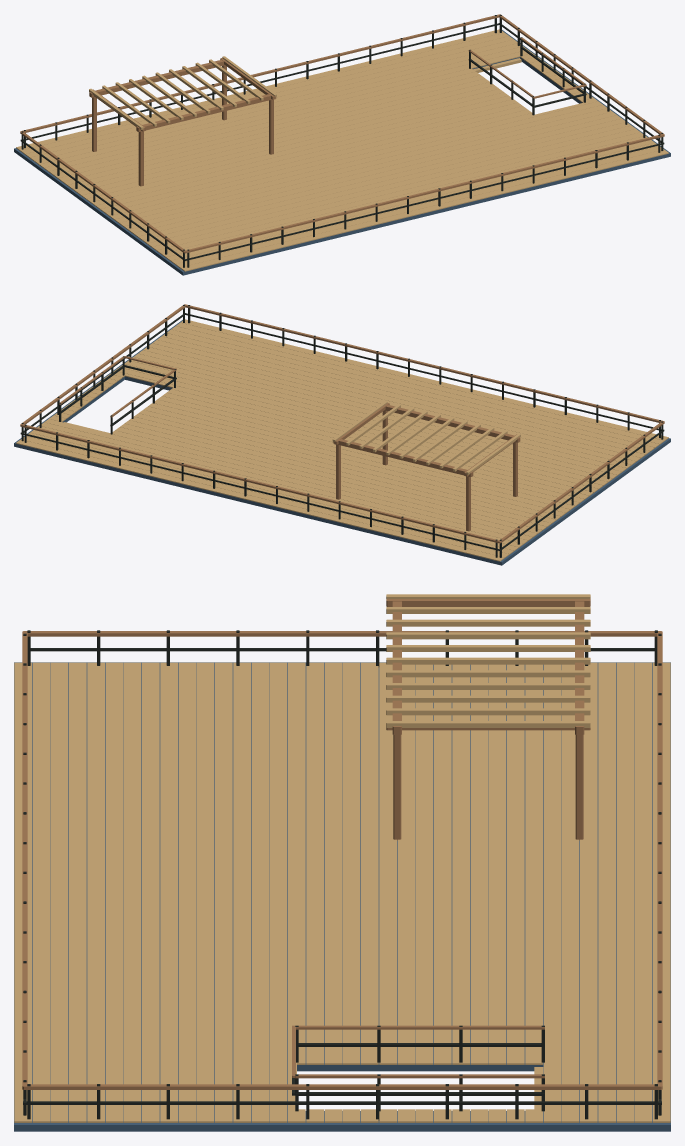
Rendered from gh_roof_terrace_v01.glb.
3 views of the same model, one above another, from view 1: azimuth 30°, elevation 25°; view 2: azimuth 150°, elevation 25°; view 3: azimuth 270°, elevation 25° (orthographic). The views are drawn at different scales.
Parts seen in each view (by area): view 1: deck, rails, roof, pavilion; view 2: deck, rails, roof, pavilion; view 3: deck, rails, roof, pavilion.
Part boxes in pixels (x1,y1,x2,y2): deck: [14, 29, 670, 275]; rails: [20, 14, 664, 267]; roof: [89, 56, 276, 131]; pavilion: [89, 59, 276, 186]; deck: [14, 319, 670, 565]; rails: [20, 304, 664, 557]; roof: [332, 401, 520, 476]; pavilion: [333, 404, 520, 531]; deck: [14, 662, 670, 1131]; rails: [22, 630, 662, 1120]; roof: [386, 594, 590, 730]; pavilion: [392, 601, 584, 840].
Bounding box in the file's own units: 30 × 3.8 × 18.
Materials: 1 (1 with a texture image).
